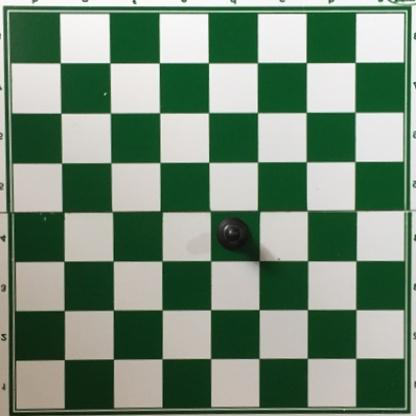black-pawn: (216, 216, 252, 253)
